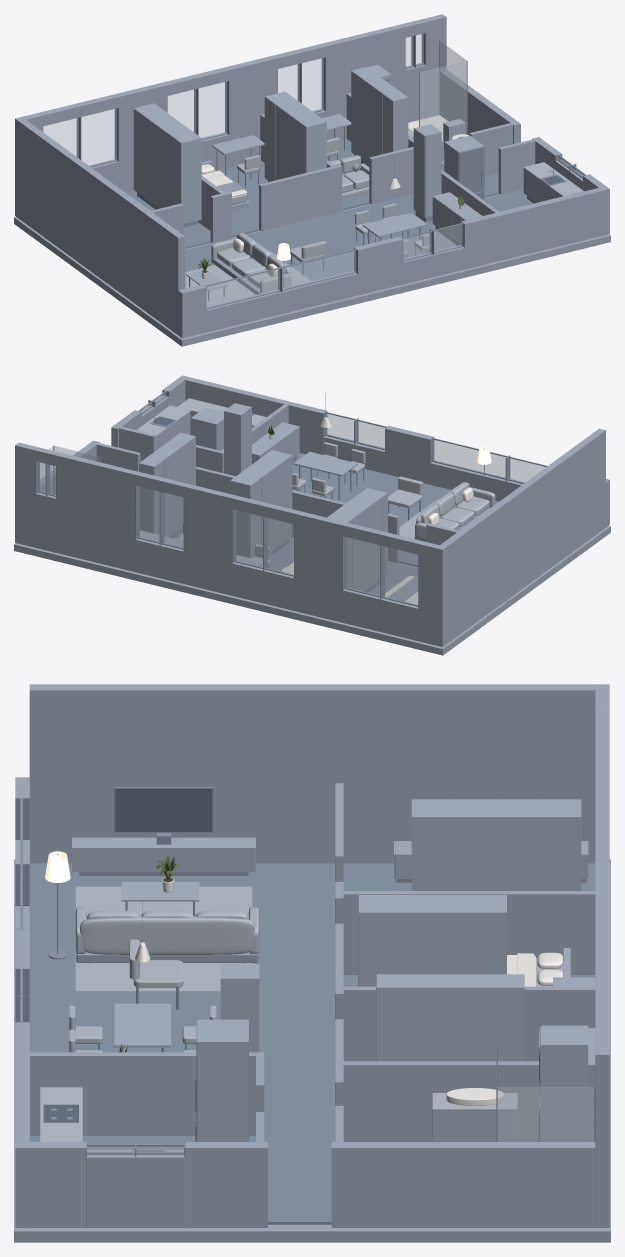
The model's file is interior.glb.
The picture shows the model from 3 angles, top to bottom: view 1: azimuth 30°, elevation 25°; view 2: azimuth 150°, elevation 25°; view 3: azimuth 270°, elevation 25°; orthographic projection. The views are drawn at different scales.
Parts seen in each view (by area): view 1: W03 W03.002, W01 W01.016, Presentation foundation Presentation foundation, W02 W02.031, W05 W05.016, W01 W01.013, R07 floor R07 floor, W02 W02.028, R01 floor R01 floor, WIN01 glazing WIN01 glazing.001, DETAIL-SHOWER shower glass front, W04 W04.013 (+53 smaller); view 2: W03 W03.002, W02 W02.031, Presentation foundation Presentation foundation, W02 W02.025, W02 W02.028, WIN03 glazing WIN03 glazing.001, W01 W01.016, W02 W02.022, R01 floor R01 floor, WIN04 glazing WIN04 glazing.001, W02 W02.023, WIN05 glazing WIN05 glazing.001 (+51 smaller); view 3: W03 W03.002, R07 floor R07 floor, W04 W04.013, R01 floor R01 floor, J01 carcass, J04 carcass, W09 W09.002, J02 carcass, W08 W08.002, Presentation foundation Presentation foundation, W06 W06.002, W04 W04.011 (+29 smaller).
Boxes of the visible parts, x1,y1,x2,y2 form: W03 W03.002: (19,120,185,334); W01 W01.016: (461,186,609,269); Presentation foundation Presentation foundation: (14,194,610,346); W02 W02.031: (322,24,405,140); W05 W05.016: (259,164,342,231); W01 W01.013: (206,271,358,332); R07 floor R07 floor: (185,173,499,269); W02 W02.028: (225,55,277,167); R01 floor R01 floor: (185,213,456,280); WIN01 glazing WIN01 glazing.001: (207,250,355,307); DETAIL-SHOWER shower glass front: (420,61,466,140); W04 W04.013: (440,70,520,143); W03 W03.002: (440,428,605,643); W02 W02.031: (56,452,139,572); Presentation foundation Presentation foundation: (14,525,610,655); W02 W02.025: (294,511,346,622); W02 W02.028: (184,484,235,595); WIN03 glazing WIN03 glazing.001: (345,537,417,605); W01 W01.016: (178,375,326,454); W02 W02.022: (418,541,446,646); R01 floor R01 floor: (292,453,498,526); WIN04 glazing WIN04 glazing.001: (235,510,293,575); W02 W02.023: (342,587,418,641); WIN05 glazing WIN05 glazing.001: (138,486,183,548); W03 W03.002: (29,684,595,863); R07 floor R07 floor: (264,863,334,1224); W04 W04.013: (331,1142,595,1227); R01 floor R01 floor: (29,863,264,1052); J01 carcass: (411,799,581,890); J04 carcass: (376,974,524,1061); W09 W09.002: (29,1052,264,1135); J02 carcass: (358,895,506,986); W08 W08.002: (343,1061,595,1141); Presentation foundation Presentation foundation: (14,859,610,1242); W06 W06.002: (343,891,595,974); W04 W04.011: (86,1151,185,1227).
Bounding box in the file's own units: 12.44 × 2.92 × 8.44.
